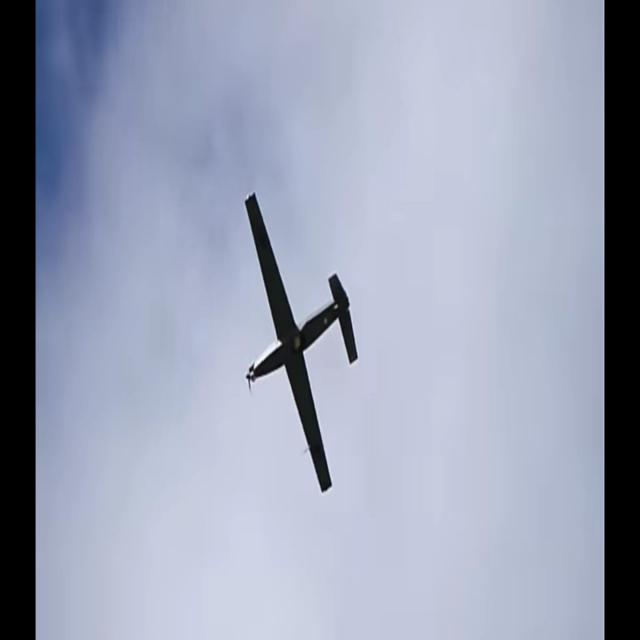iha: (275, 189, 326, 494)
